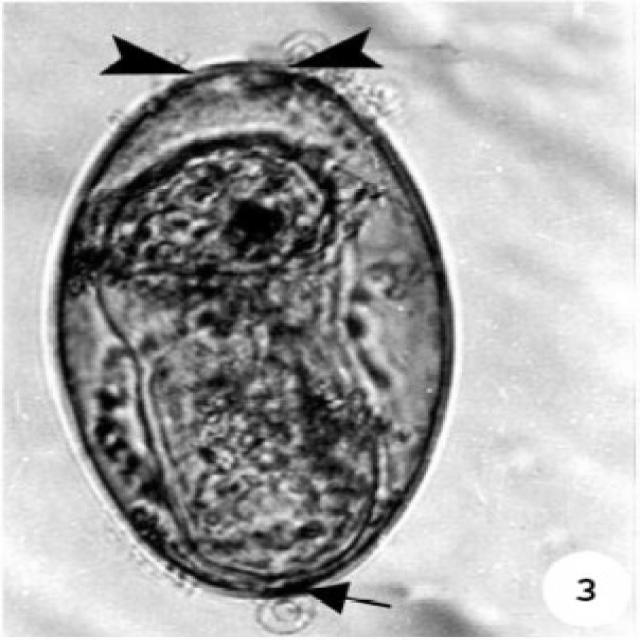Enterobius Vermicularis: (37, 34, 489, 624)
